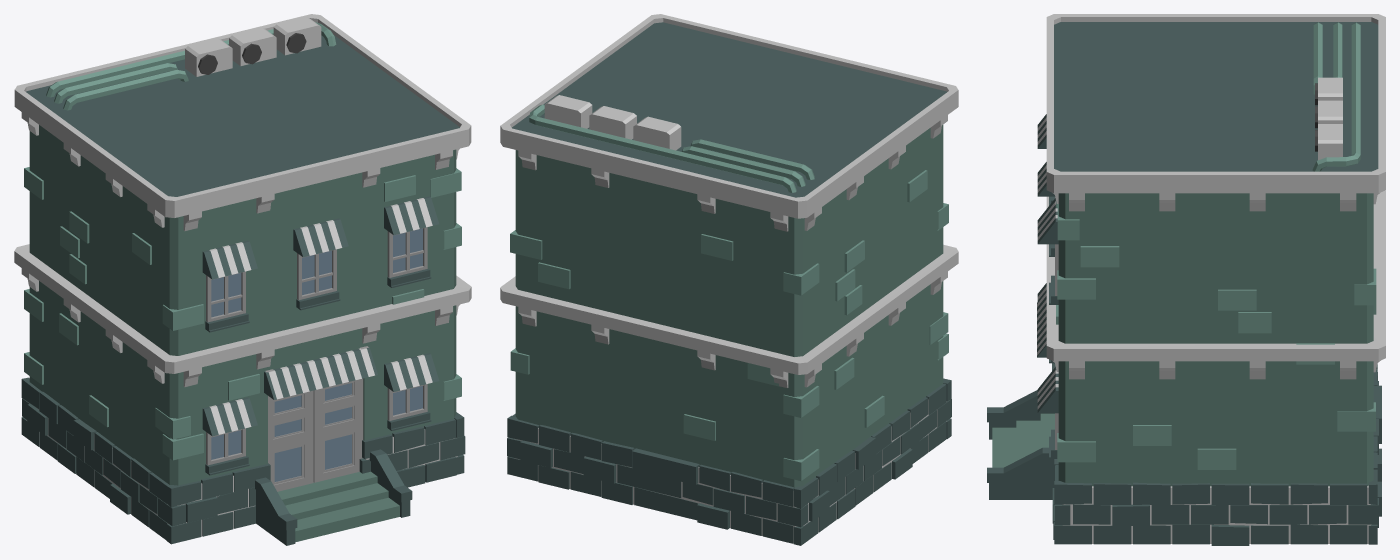
The model's file is 2story_double_mat.glb.
3 views of the same model, side by side, from view 1: azimuth 30°, elevation 25°; view 2: azimuth 150°, elevation 25°; view 3: azimuth 270°, elevation 25° (orthographic). The views are drawn at different scales.
Parts seen in each view (by area): view 1: 2Story_Double_Mat; view 2: 2Story_Double_Mat; view 3: 2Story_Double_Mat.
Part boxes in pixels (x1,y1,x2,y2): 2Story_Double_Mat: (14, 14, 471, 545); 2Story_Double_Mat: (500, 14, 958, 545); 2Story_Double_Mat: (987, 14, 1385, 545).
Size of the model in its own units: 2.42 by 2.75 by 2.53.
